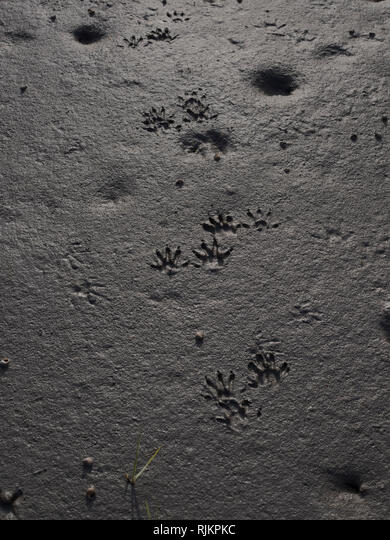raccoon: (168, 328, 310, 450), (132, 202, 298, 283), (106, 91, 230, 132)
